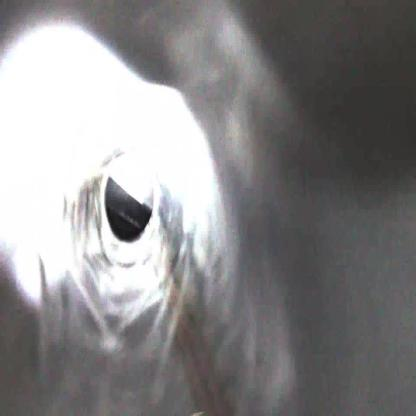Crack: (66, 72, 200, 330)
